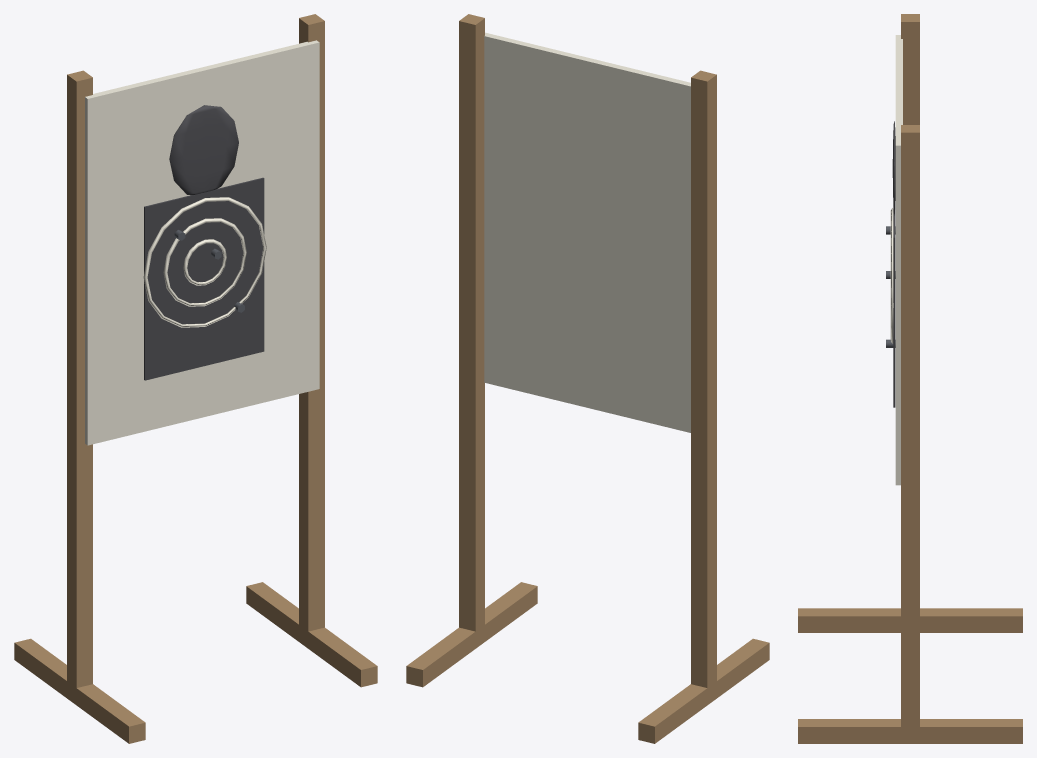
File: range_target.glb
3 views of the same model, side by side, from view 1: azimuth 30°, elevation 25°; view 2: azimuth 150°, elevation 25°; view 3: azimuth 270°, elevation 25° (orthographic). The views are drawn at different scales.
Parts seen in each view (by area): view 1: range_target; view 2: range_target; view 3: range_target.
Boxes of the visible parts, x1=… form: range_target: x1=14, y1=14, x2=377, y2=743; range_target: x1=406, y1=14, x2=769, y2=743; range_target: x1=798, y1=14, x2=1022, y2=743.
Size of the model in its own units: 0.75 by 1.8 by 0.6.
